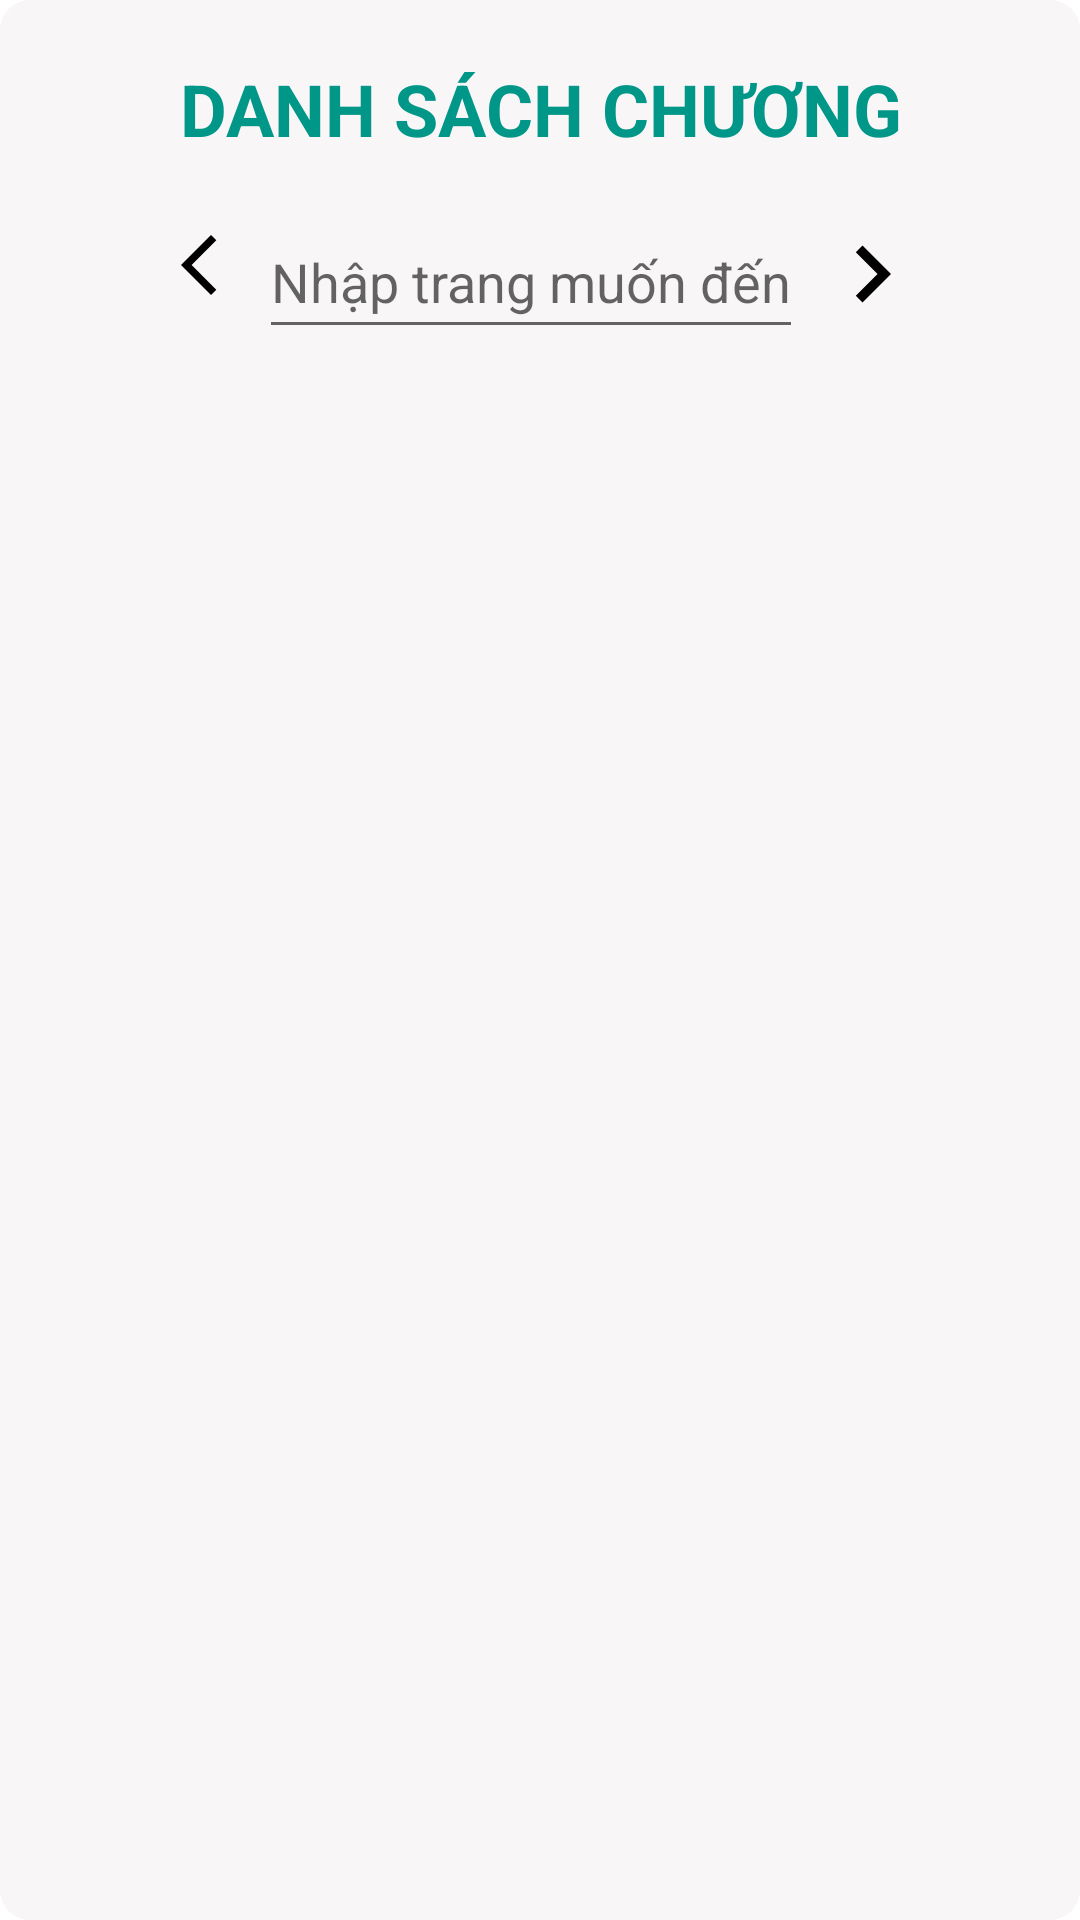

Locate icon controls on the screen. Image size 1080w x 1920h, boxes as (x1, y1, x2, y2).
next: (856, 245, 891, 303)
prev: (181, 235, 216, 295)
